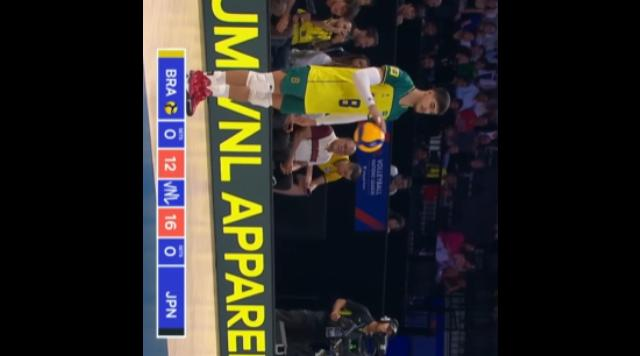bola: (346, 114, 386, 156)
